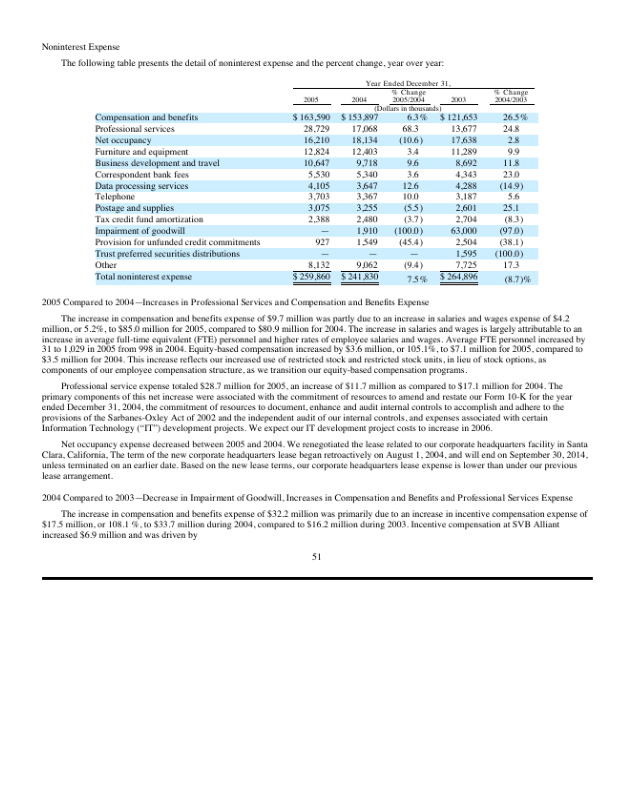table: (283, 77, 536, 289)
